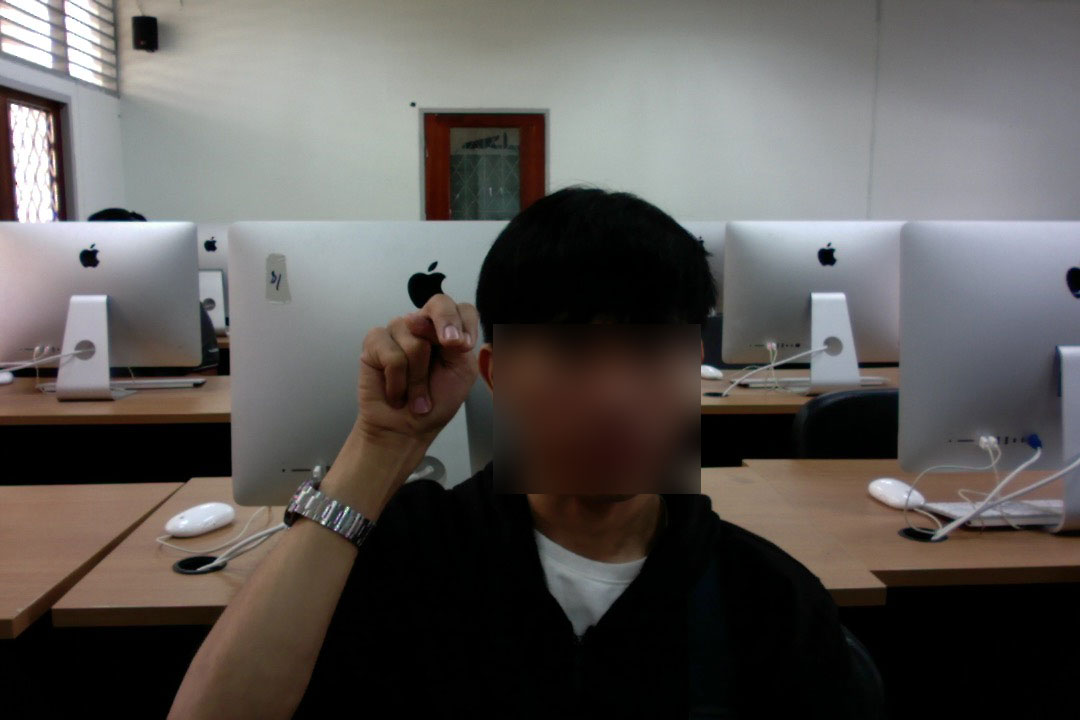nor: (346, 288, 488, 480)
